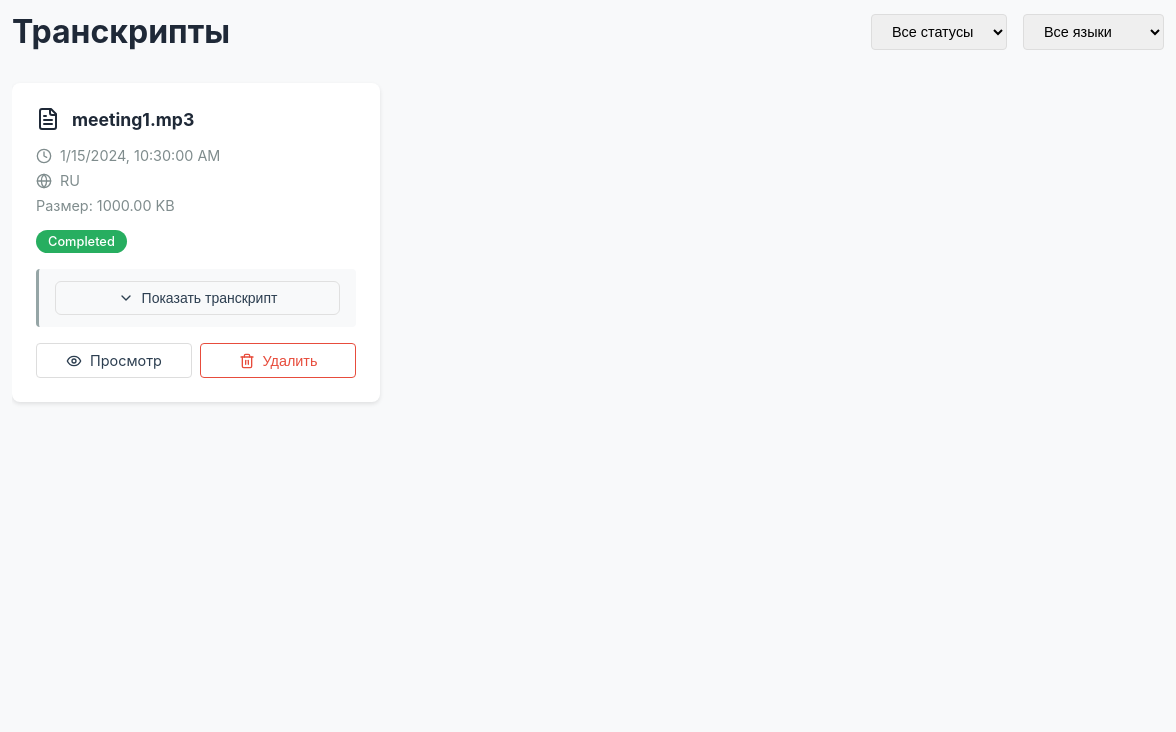
Test: TranscriptsPage › Transcript Preview › should expand transcript when toggle is clicked
The image size is (1176, 732).
Click the button "Показать транскрипт" at (198, 298), box [55,281,340,315]
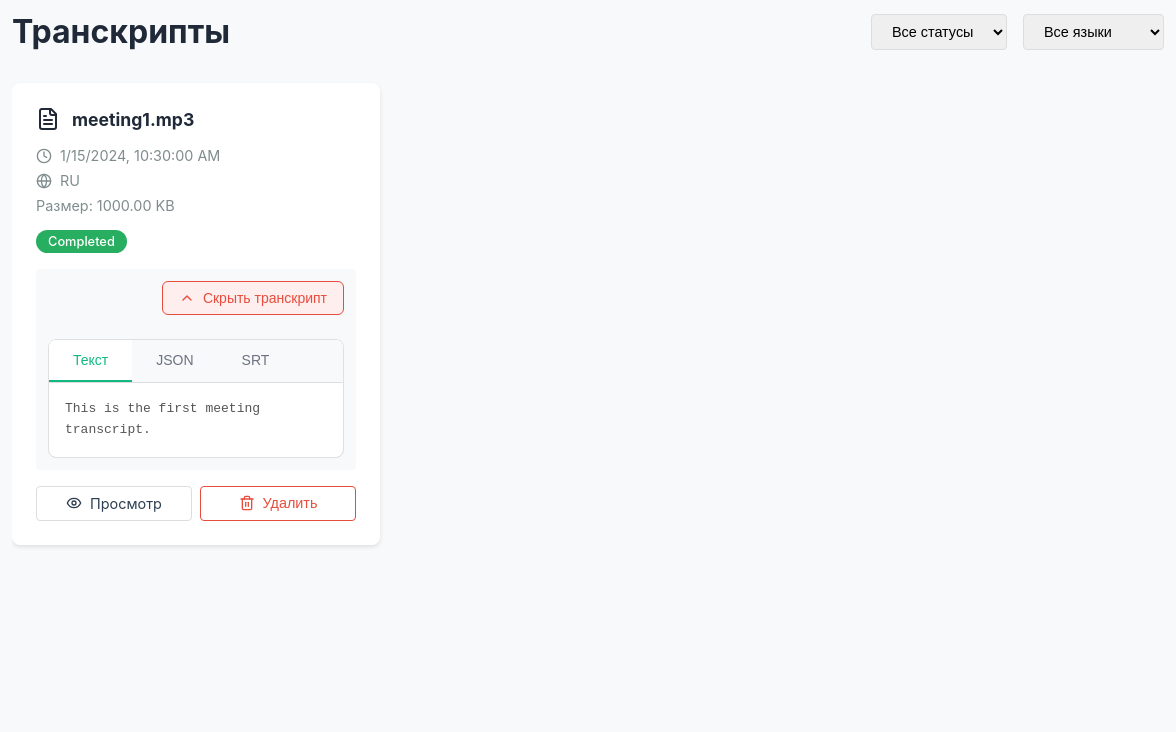
Result: the text "This is the first meeting transcript." is shown at [65,401,268,437]
